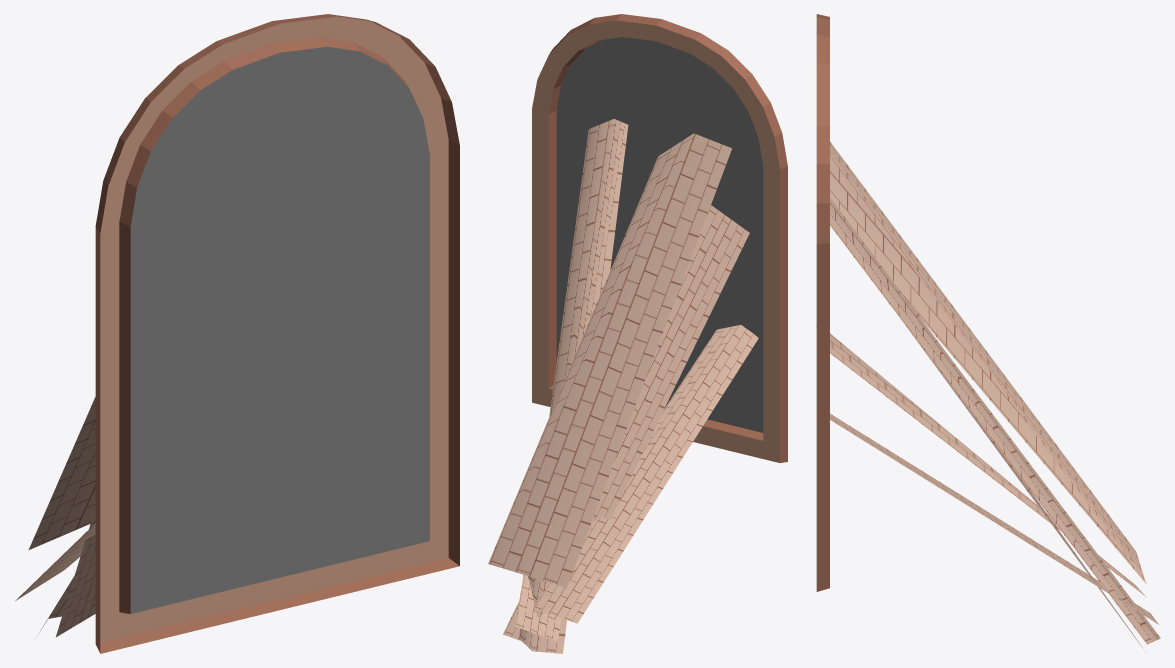
The model's file is throneWindow.fbx.
3 renders of one model, left to right at view 1: azimuth 30°, elevation 25°; view 2: azimuth 150°, elevation 25°; view 3: azimuth 270°, elevation 25°, orthographic. The views are drawn at different scales.
Parts seen in each view (by area): view 1: throneWindow; view 2: throneWindow; view 3: throneWindow.
Part boxes in pixels (x1,y1,x2,y2): throneWindow: (15, 14, 459, 653); throneWindow: (488, 14, 787, 653); throneWindow: (816, 14, 1160, 651).
Size of the model in its own units: 214 by 426 by 215.
Materials: 3 (2 with a texture image).
